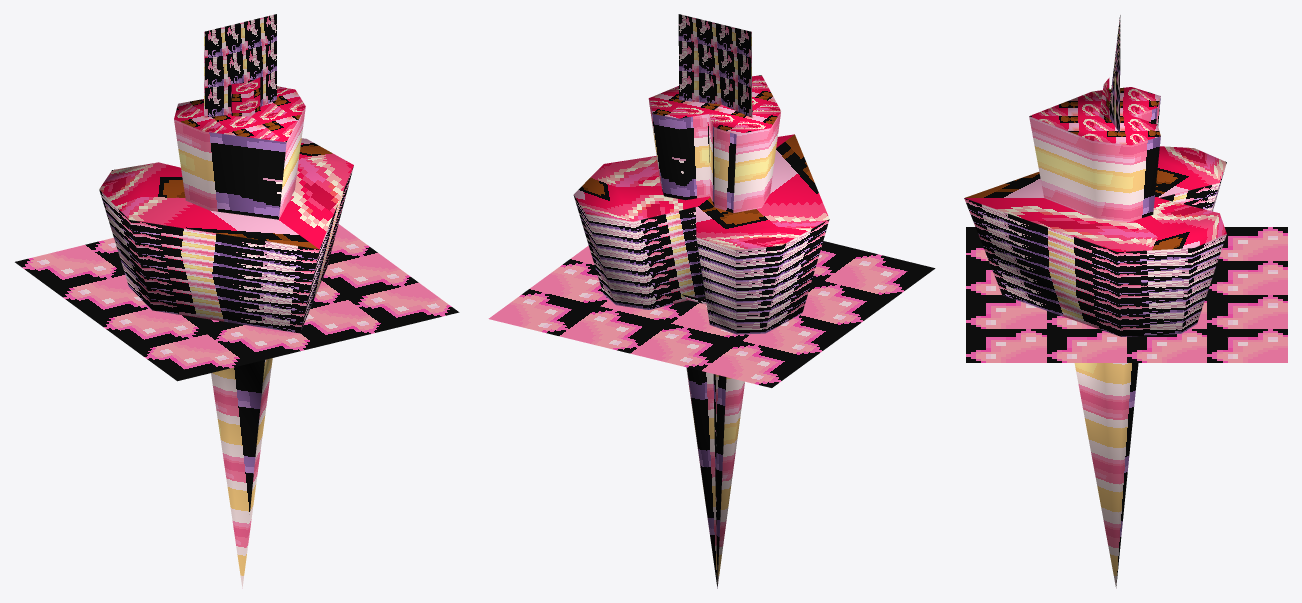
Rendered from 1188ucc_ac_cake.gltf.
The picture shows the model from 3 angles, left to right: view 1: azimuth 30°, elevation 25°; view 2: azimuth 150°, elevation 25°; view 3: azimuth 270°, elevation 25°; orthographic projection.
Visible parts, largest first — view 1: 1188ucc_ac_cake; view 2: 1188ucc_ac_cake; view 3: 1188ucc_ac_cake.
Part boxes in pixels (<box>): 1188ucc_ac_cake: <box>15,14,459,588</box>; 1188ucc_ac_cake: <box>488,14,935,588</box>; 1188ucc_ac_cake: <box>964,15,1287,588</box>.
Size of the model in its own units: 0.7222 by 1.38 by 0.7266.
4 materials, 4 textured.
